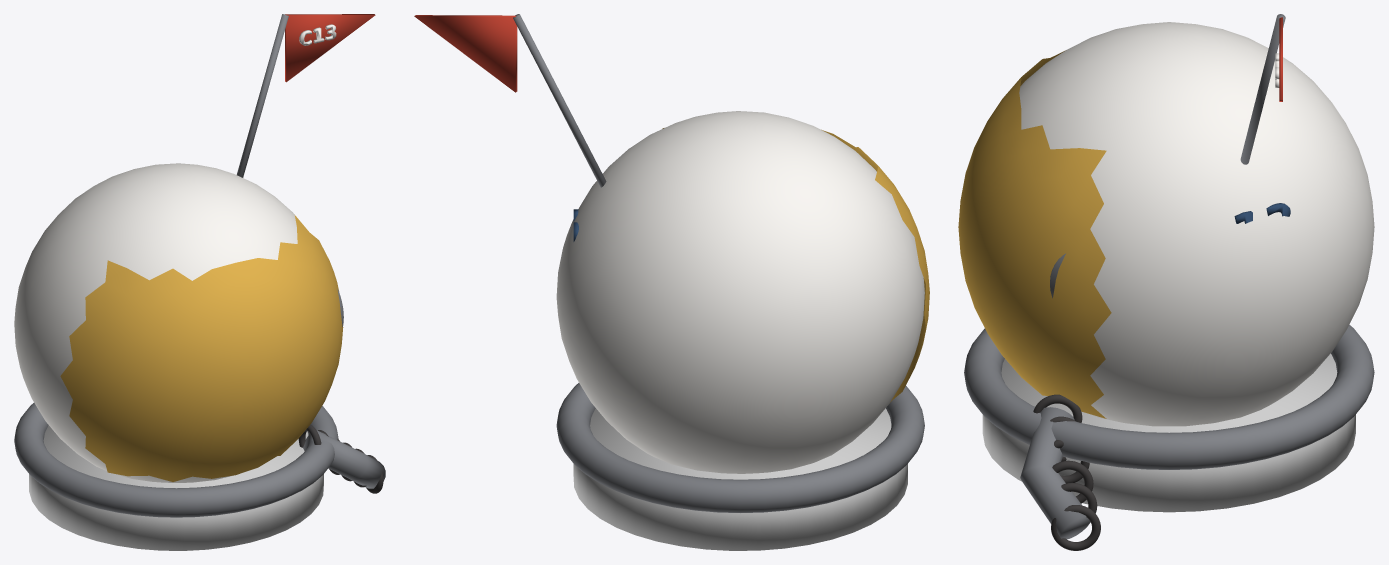
File: astronaut-helmet.glb
3 views of the same model, side by side, from view 1: azimuth 30°, elevation 25°; view 2: azimuth 150°, elevation 25°; view 3: azimuth 270°, elevation 25° (orthographic). The views are drawn at different scales.
Parts seen in each view (by area): view 1: part1, part0, part2, part3, part4, part14, part7; view 2: part0, part2, part3, part14, part1, part4; view 3: part0, part1, part3, part2, part4, part7.
Boxes of the visible parts, x1,y1,x2,y2 form: part1: (60,215,343,481); part0: (14,163,297,482); part2: (29,425,323,550); part3: (14,403,338,517); part4: (236,14,385,488); part14: (285,14,375,82); part7: (298,424,383,493); part0: (556,111,924,473); part2: (573,408,907,550); part3: (556,383,924,512); part14: (414,15,517,92); part1: (662,128,929,402); part4: (513,14,606,187); part0: (1019,22,1374,426); part1: (958,50,1111,418); part3: (964,325,1374,469); part2: (982,353,1355,512); part4: (1020,14,1285,539); part7: (1033,394,1100,550).
Bounding box in the file's own units: 0.9541 × 1 × 0.7092.
